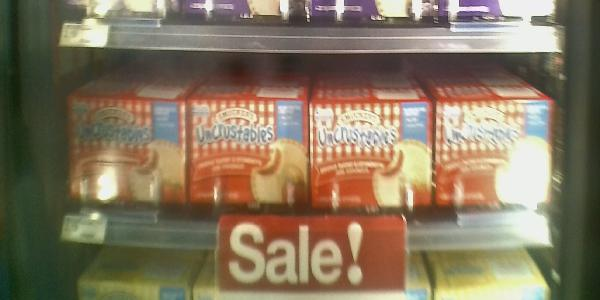icecream: (436, 90, 560, 224), (185, 94, 313, 217), (64, 91, 190, 213), (309, 96, 434, 217)
